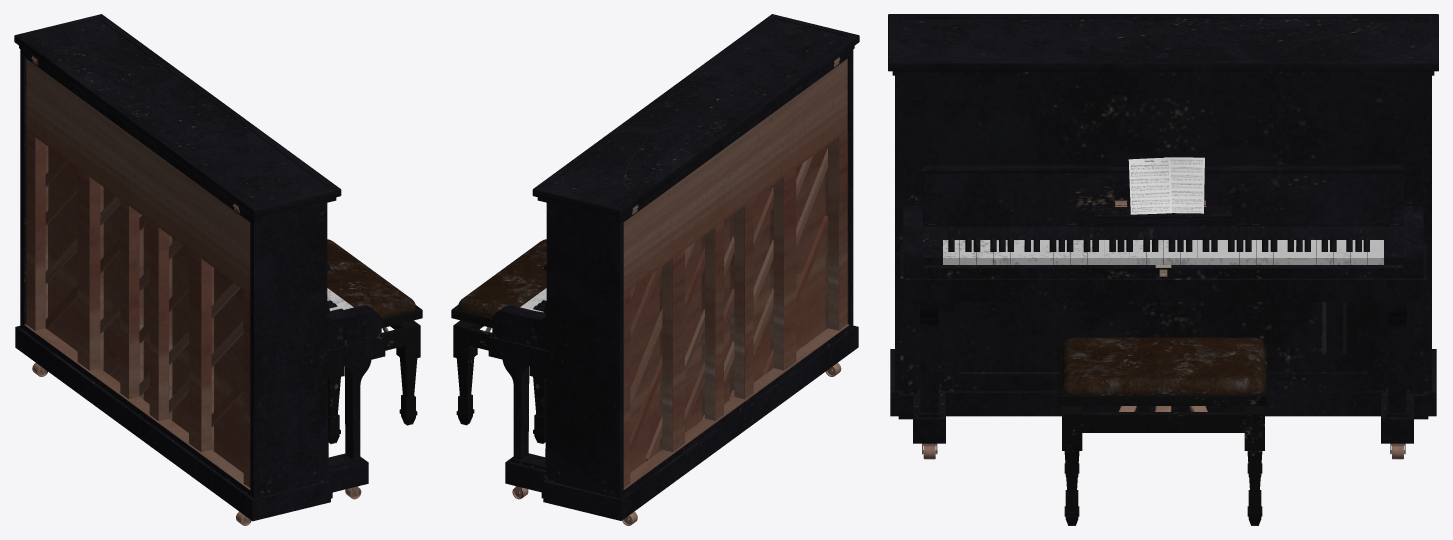
The model's file is dusty_old_piano-v2.glb.
3 views of the same model, side by side, from view 1: azimuth 30°, elevation 25°; view 2: azimuth 150°, elevation 25°; view 3: azimuth 270°, elevation 25° (orthographic). The views are drawn at different scales.
Parts seen in each view (by area): view 1: Frame, Top, Wood_thingy, Cussion, Feets; view 2: Frame, Top, Wood_thingy, Cussion, Feets; view 3: Frame, Top, Lid, Cussion, White_keys, Feets, Black_keys, Cussion_frame, Plane, Plane.1, Note_stand.
Part boxes in pixels (<box>): Frame: <box>15,49,385,521</box>; Top: <box>14,14,341,220</box>; Wood_thingy: <box>45,157,243,427</box>; Cussion: <box>327,239,415,317</box>; Feets: <box>328,320,420,443</box>; Frame: <box>488,49,858,520</box>; Top: <box>532,14,859,220</box>; Wood_thingy: <box>630,148,828,460</box>; Cussion: <box>458,239,546,317</box>; Feets: <box>453,320,545,443</box>; Frame: <box>890,75,1436,443</box>; Top: <box>888,14,1438,75</box>; Lid: <box>923,164,1403,224</box>; Cussion: <box>1061,337,1265,393</box>; White_keys: <box>943,240,1383,264</box>; Feets: <box>1062,406,1264,525</box>; Black_keys: <box>948,237,1369,262</box>; Cussion_frame: <box>1059,344,1267,405</box>; Plane: <box>1128,157,1171,214</box>; Plane.1: <box>1164,157,1204,213</box>; Note_stand: <box>1095,200,1231,217</box>.
Bounding box in the file's own units: 1.12 × 1.45 × 1.91.
3 materials, 3 textured.
